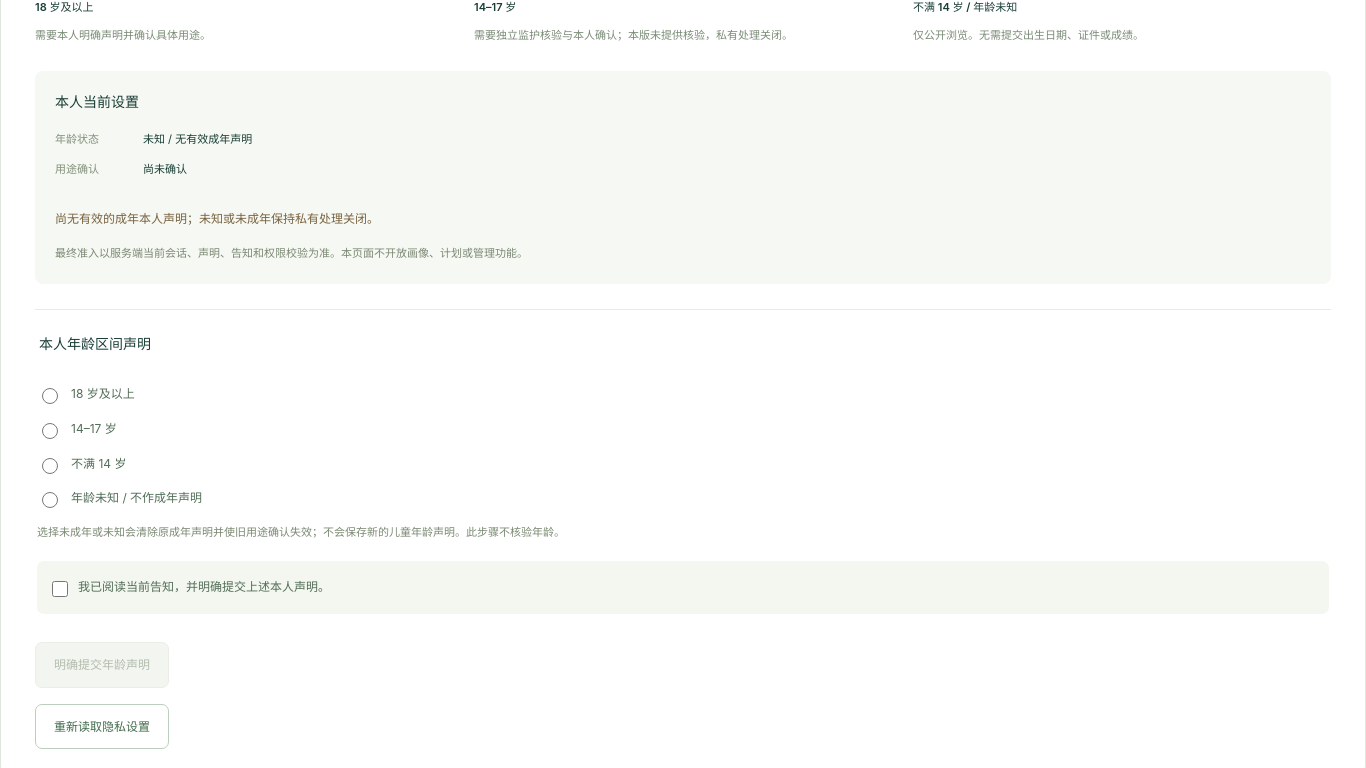
it: explicit privacy panel › requires adult radio and explicit confirmation before submitting, then a separate purpose check
The width and height of the screenshot is (1366, 768).
(page scrolled)
Expected: the button with test id "declare-age" is disabled, [35, 642, 169, 688]
Click the radio button labelled "18 岁及以上": (50, 396) [42, 388, 58, 404]
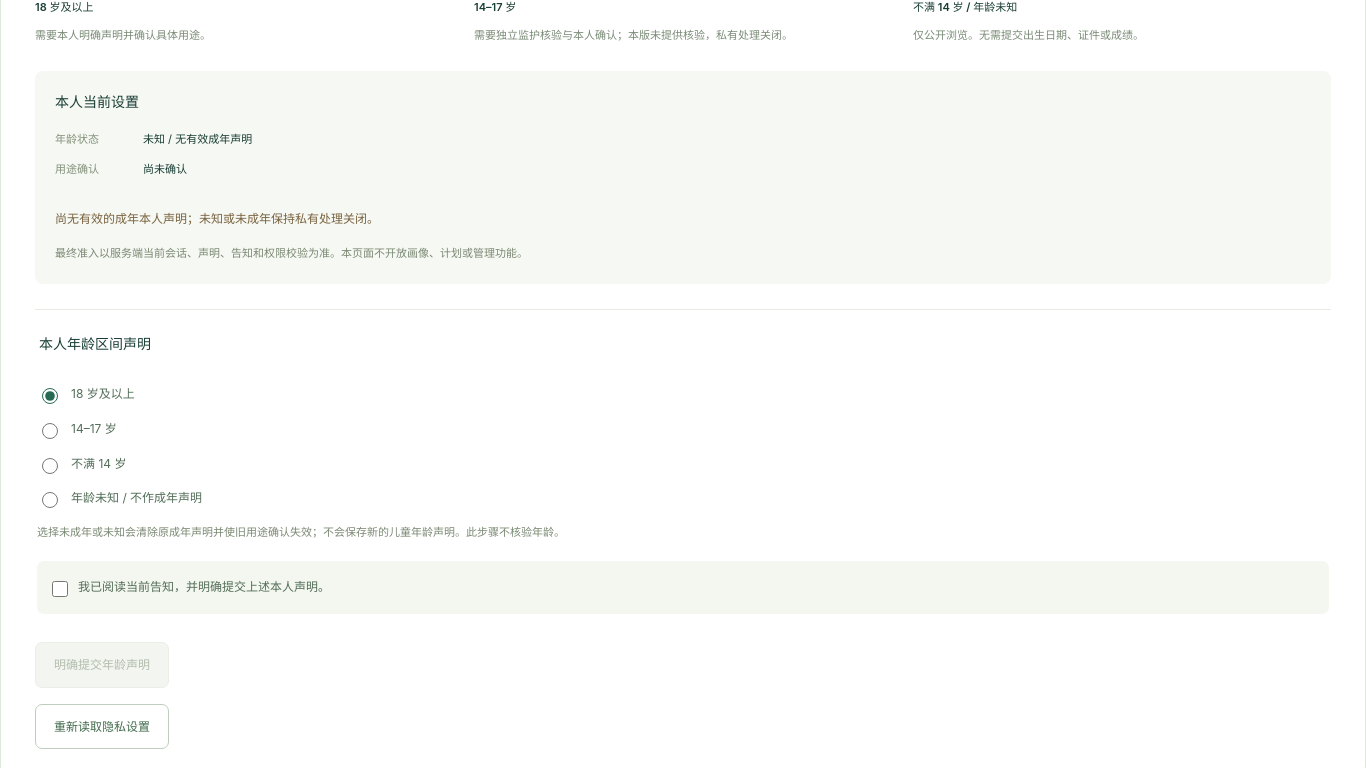
Expected: the button with test id "declare-age" is disabled, [35, 642, 169, 688]
Click the checkbox with test id "age-confirmation": (60, 589) [52, 581, 68, 597]
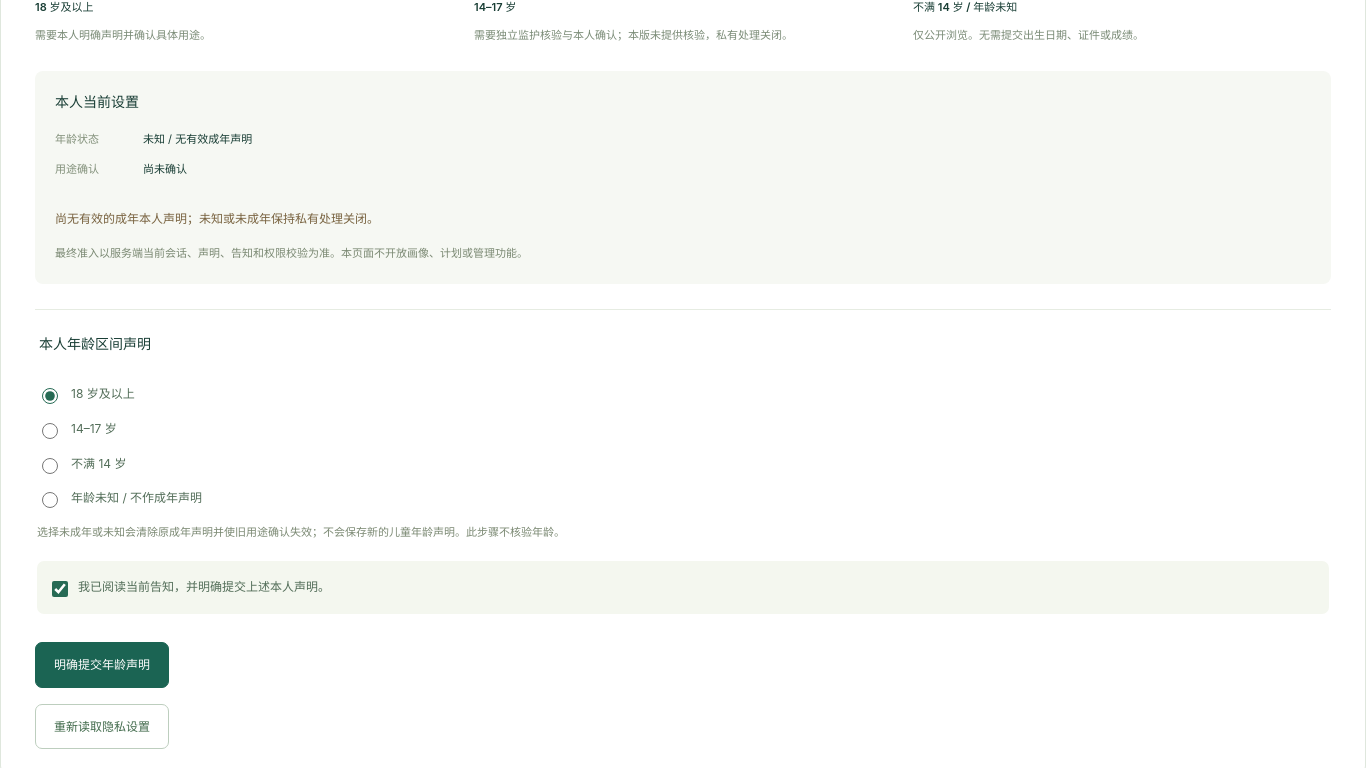
Submit the form, box [35, 309, 1331, 688]
(page scrolled)
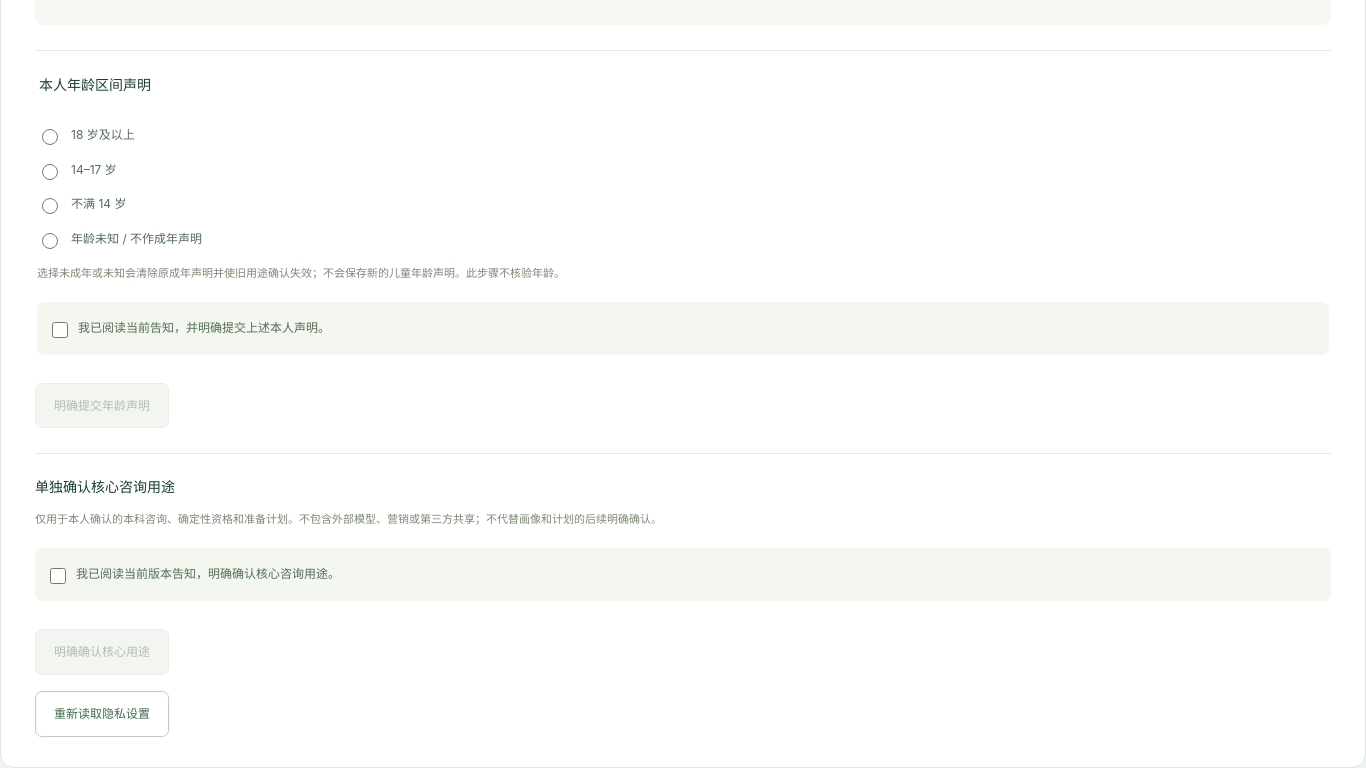
Expected: the checkbox with test id "core-confirmation" is not checked
Click the checkbox with test id "core-confirmation": (58, 576) [50, 568, 66, 584]
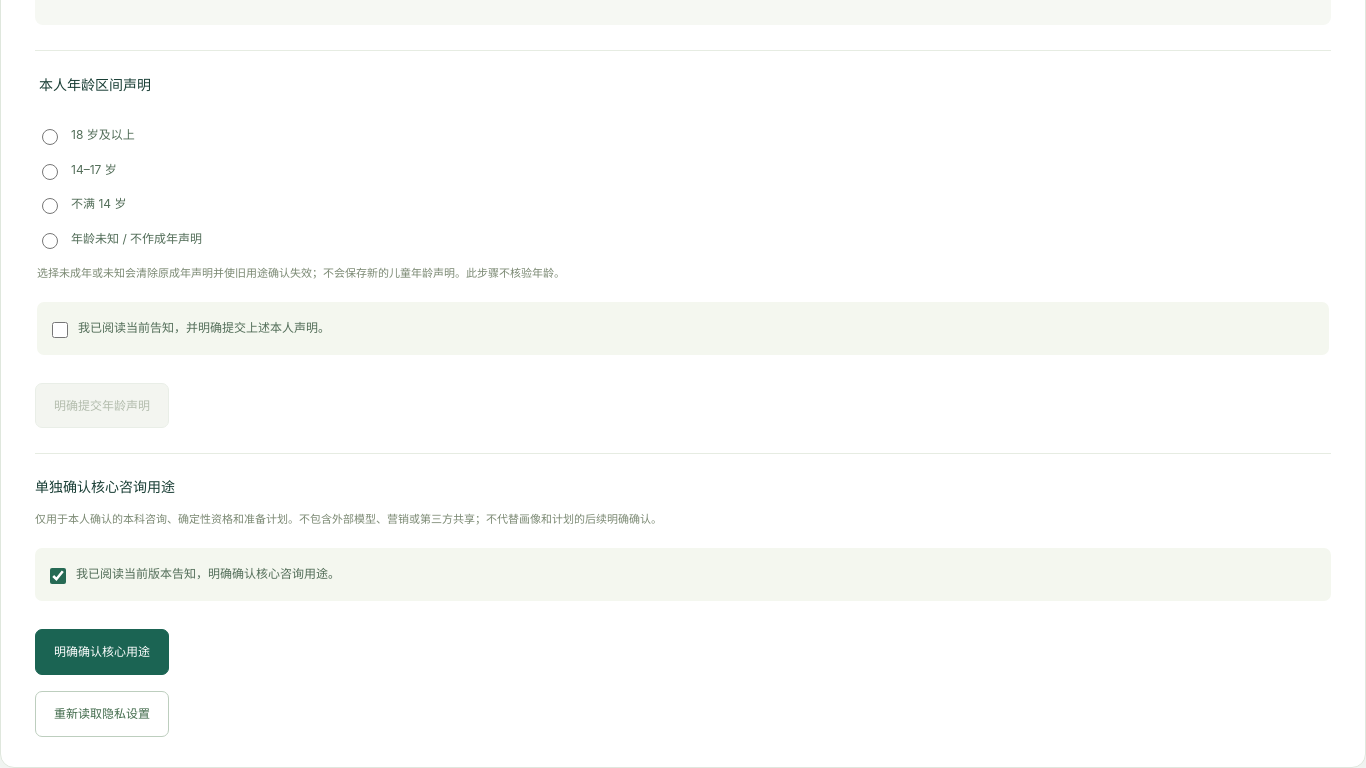
Submit the form that starts with "单独确认核心咨询用途", box [35, 454, 1331, 675]
(page scrolled)
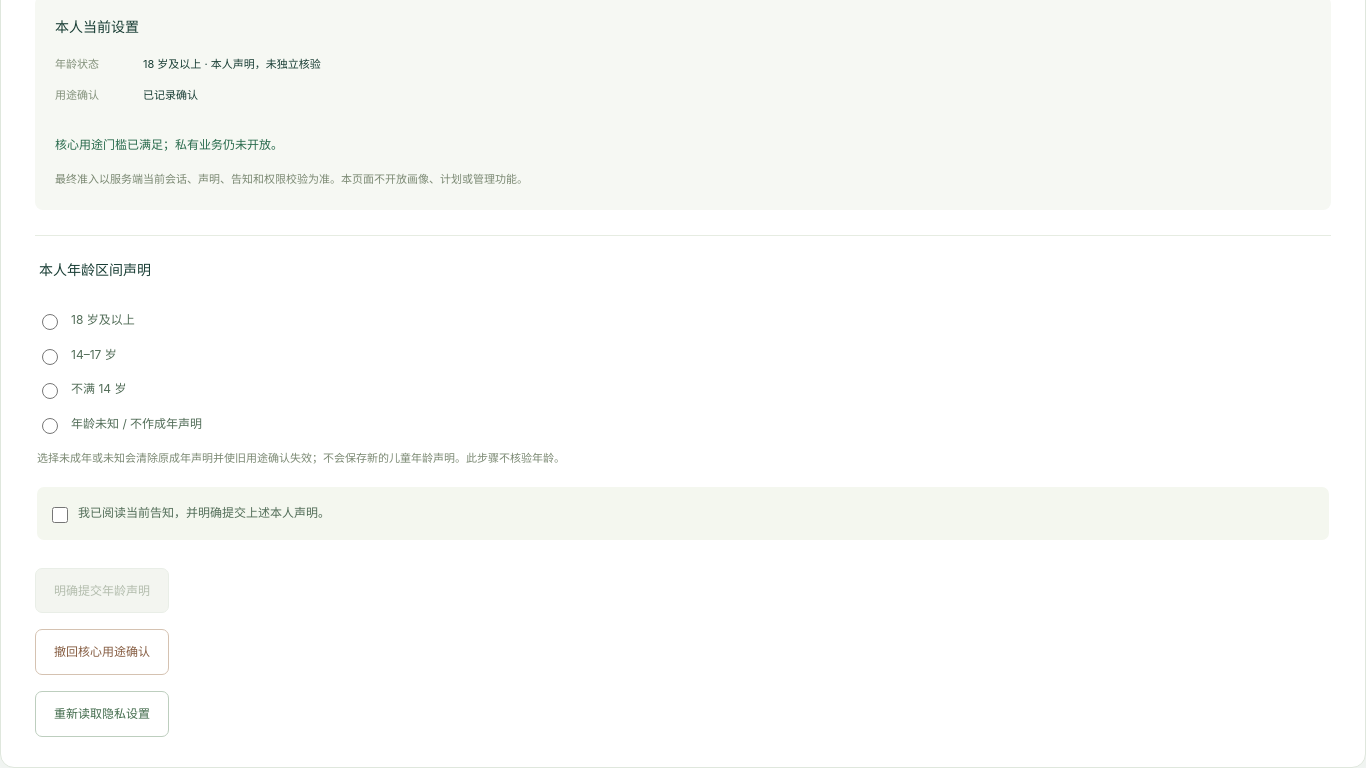
Expected: the text with test id "admission-decision" shows "私有业务仍未开放", [55, 137, 283, 152]
Expected: the button with test id "withdraw-core" is shown, [35, 630, 169, 675]
